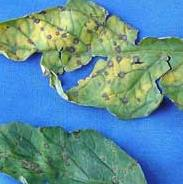Tomato Septoria leaf spot: (0, 0, 183, 128), (0, 110, 177, 184)
